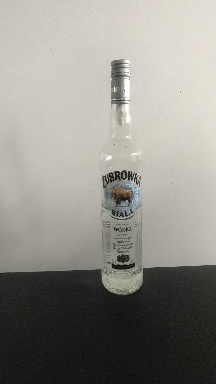butelka: (99, 56, 144, 298)
